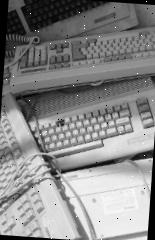electronic: (2, 90, 155, 194), (7, 9, 155, 110)
